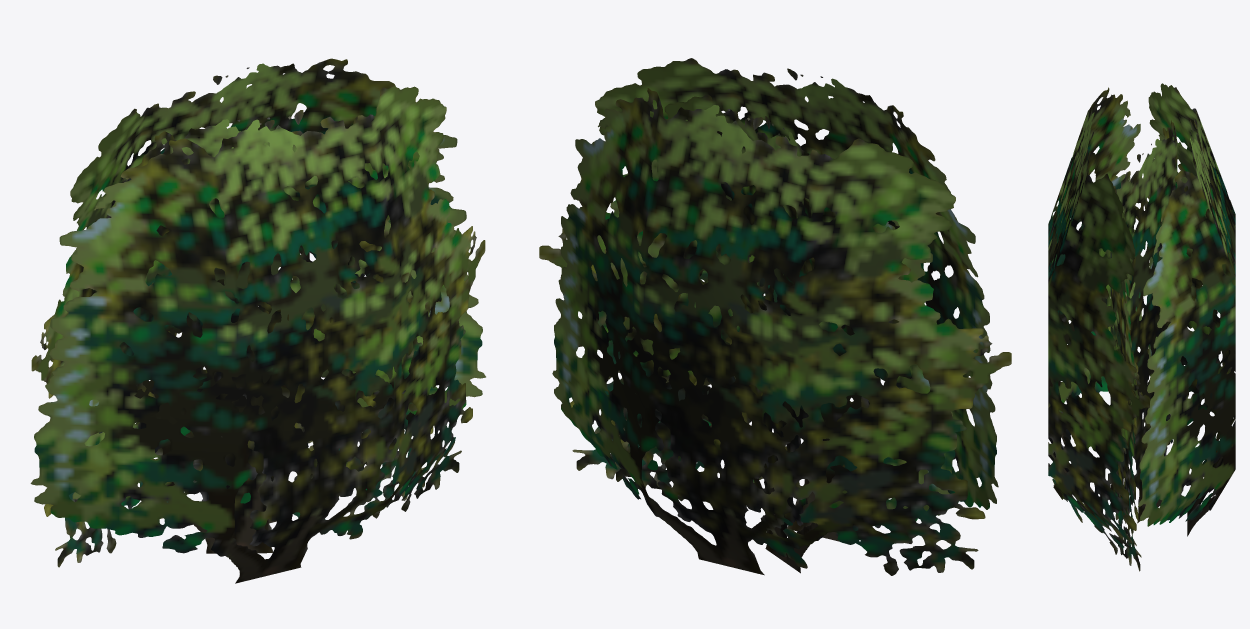
Rendered from tree_03a.fbx.
3 views of the same model, side by side, from view 1: azimuth 30°, elevation 25°; view 2: azimuth 150°, elevation 25°; view 3: azimuth 270°, elevation 25° (orthographic). The views are drawn at different scales.
Visible parts, largest first — view 1: tree_03a; view 2: tree_03a; view 3: tree_03a.
Part boxes in pixels (bbox=[...]): tree_03a: bbox=[30, 58, 485, 583]; tree_03a: bbox=[539, 58, 1011, 575]; tree_03a: bbox=[1048, 83, 1235, 571].
Size of the model in its own units: 2.73 by 2.62 by 1.09.
